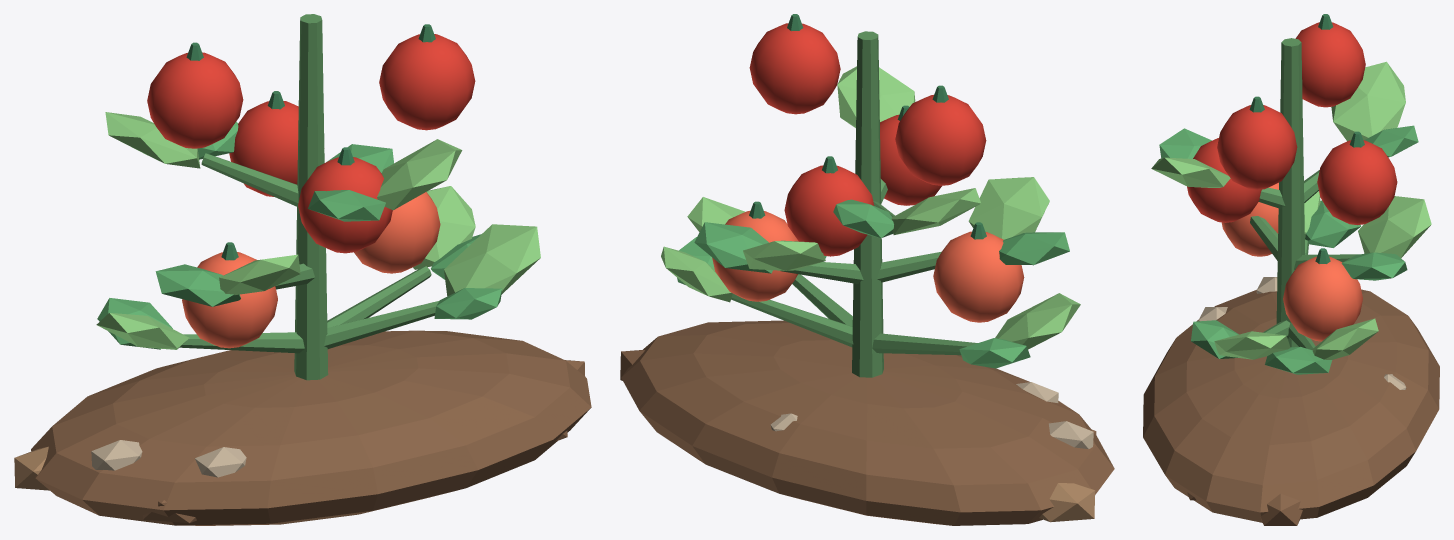
The model's file is (3)potato.fbx.
3 renders of one model, left to right at view 1: azimuth 30°, elevation 25°; view 2: azimuth 150°, elevation 25°; view 3: azimuth 270°, elevation 25°, orthographic. The views are drawn at different scales.
Parts seen in each view (by area): view 1: Tomato_Level_3; view 2: Tomato_Level_3; view 3: Tomato_Level_3.
Boxes of the visible parts, left/top/right/bottom form: Tomato_Level_3: left=14, top=14, right=591, bottom=525; Tomato_Level_3: left=620, top=14, right=1114, bottom=525; Tomato_Level_3: left=1143, top=14, right=1439, bottom=525.
Bounding box in the file's own units: 290 × 241 × 159.
